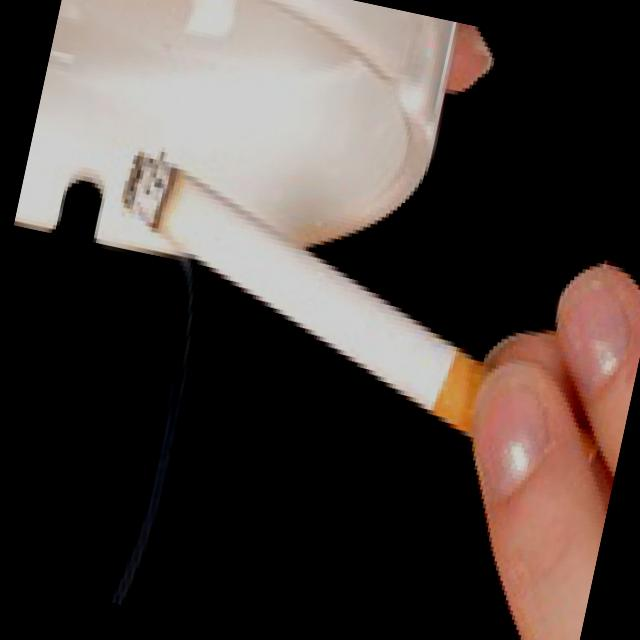cigarette: (81, 144, 516, 446)
